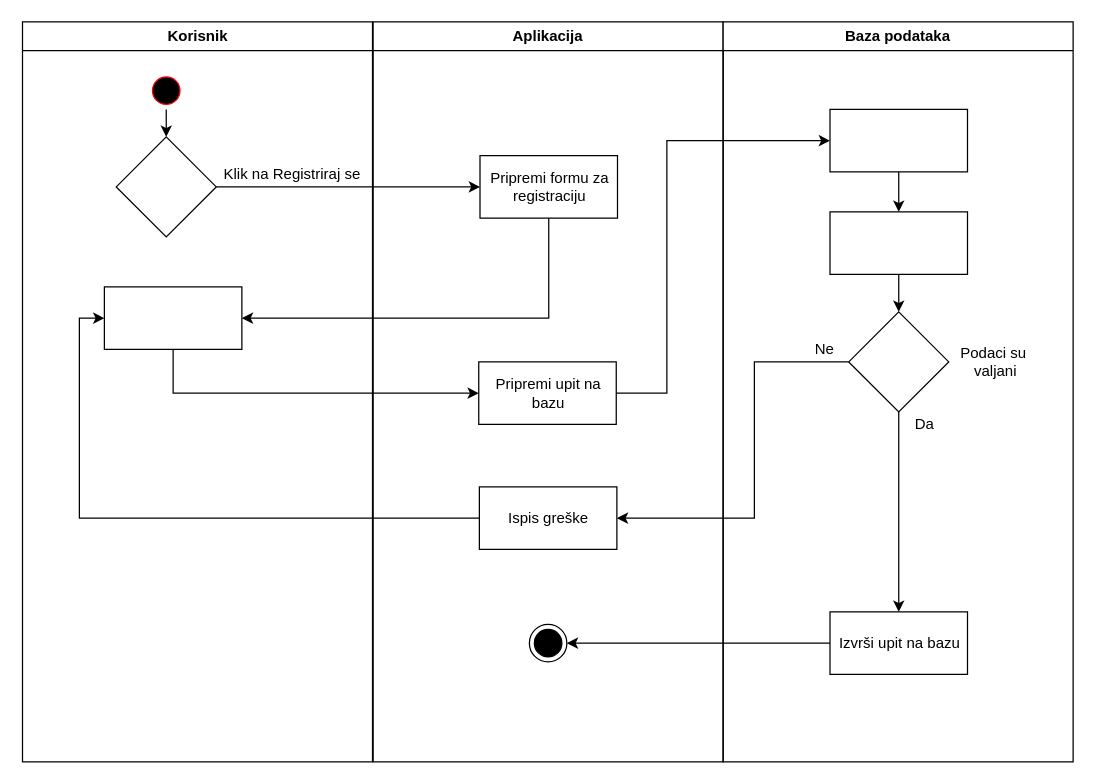
This 1095x784 diagram has some shape labels left out. Each missing label, with the centre of its shape:
"Ispuniti formu za registraciju" goes at pixel 172 317.
"Provjeri valjanost podataka" goes at pixel 898 242.
"Zaprimi upit" goes at pixel 898 140.
